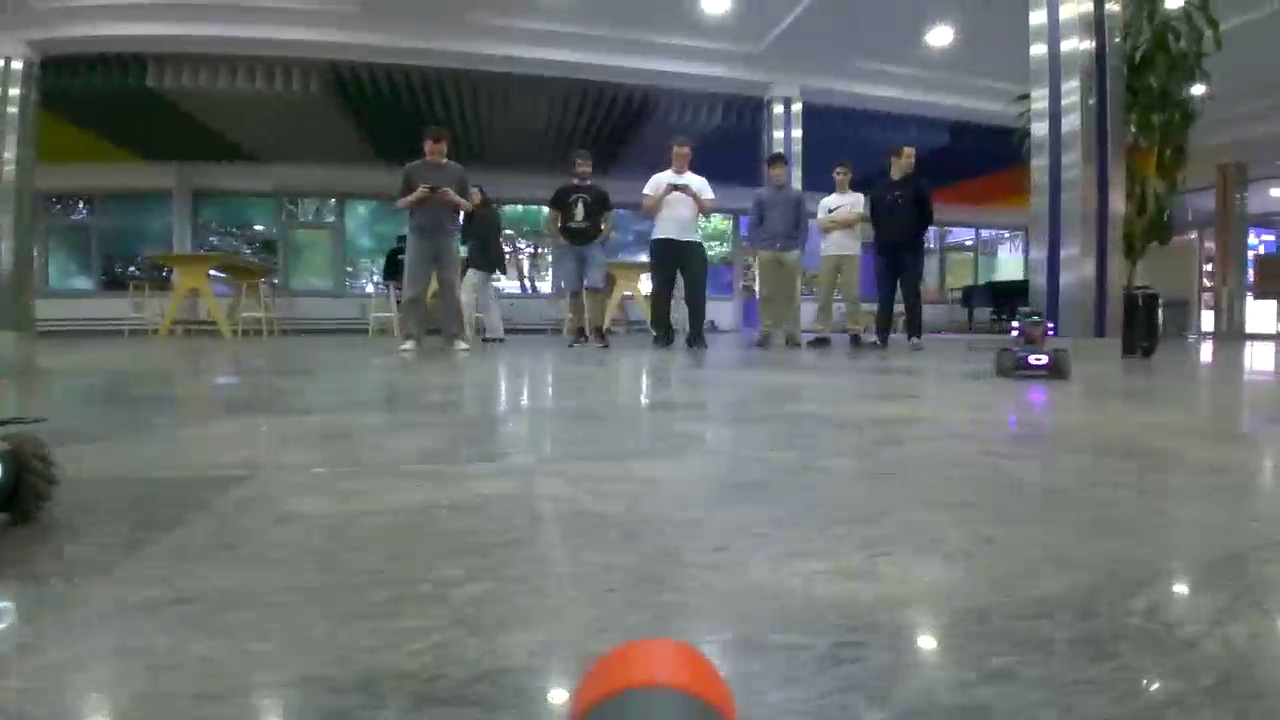robot: (999, 315, 1072, 377)
